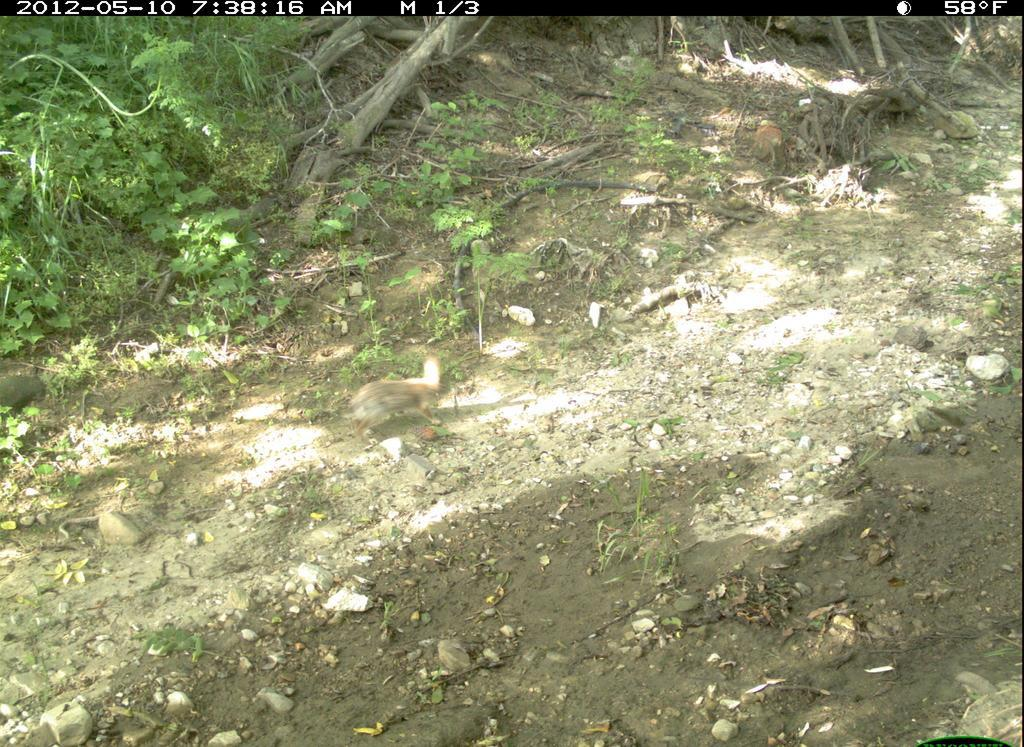rabbit: (340, 347, 456, 450)
